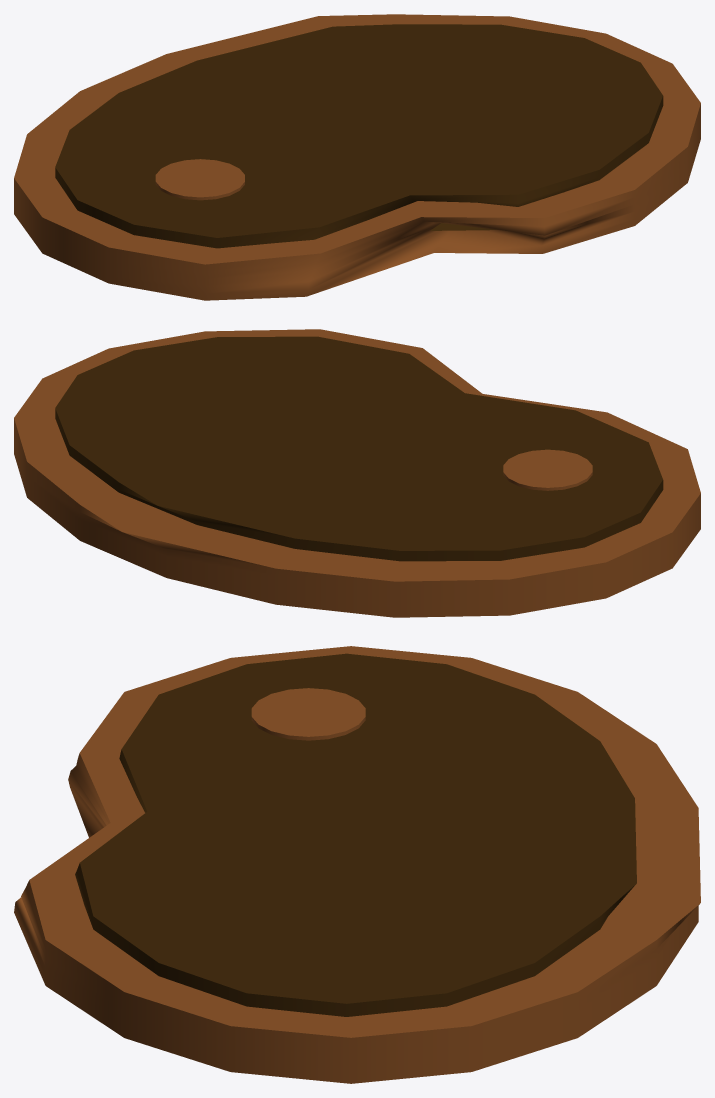
Rendered from steak.fbx.
3 renders of one model, top to bottom at view 1: azimuth 30°, elevation 25°; view 2: azimuth 150°, elevation 25°; view 3: azimuth 270°, elevation 25°, orthographic. The views are drawn at different scales.
Parts seen in each view (by area): view 1: Cylinder002, Cylinder001, Cylinder003; view 2: Cylinder002, Cylinder001, Cylinder003; view 3: Cylinder002, Cylinder001, Cylinder003.
Part boxes in pixels (<box>): Cylinder002: <box>55,24,663,248</box>; Cylinder001: <box>14,14,700,300</box>; Cylinder003: <box>155,159,244,200</box>; Cylinder002: <box>55,336,663,561</box>; Cylinder001: <box>14,329,700,617</box>; Cylinder003: <box>503,449,592,490</box>; Cylinder002: <box>75,653,636,1016</box>; Cylinder001: <box>14,646,700,1083</box>; Cylinder003: <box>251,688,365,740</box>.
Size of the model in its own units: 30.32 by 2.43 by 22.46.
